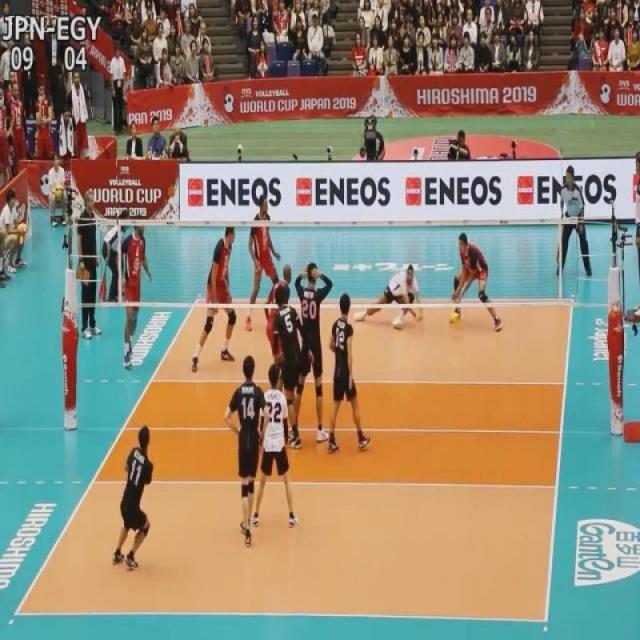volleyball: (448, 310, 459, 325), (55, 184, 63, 200)
